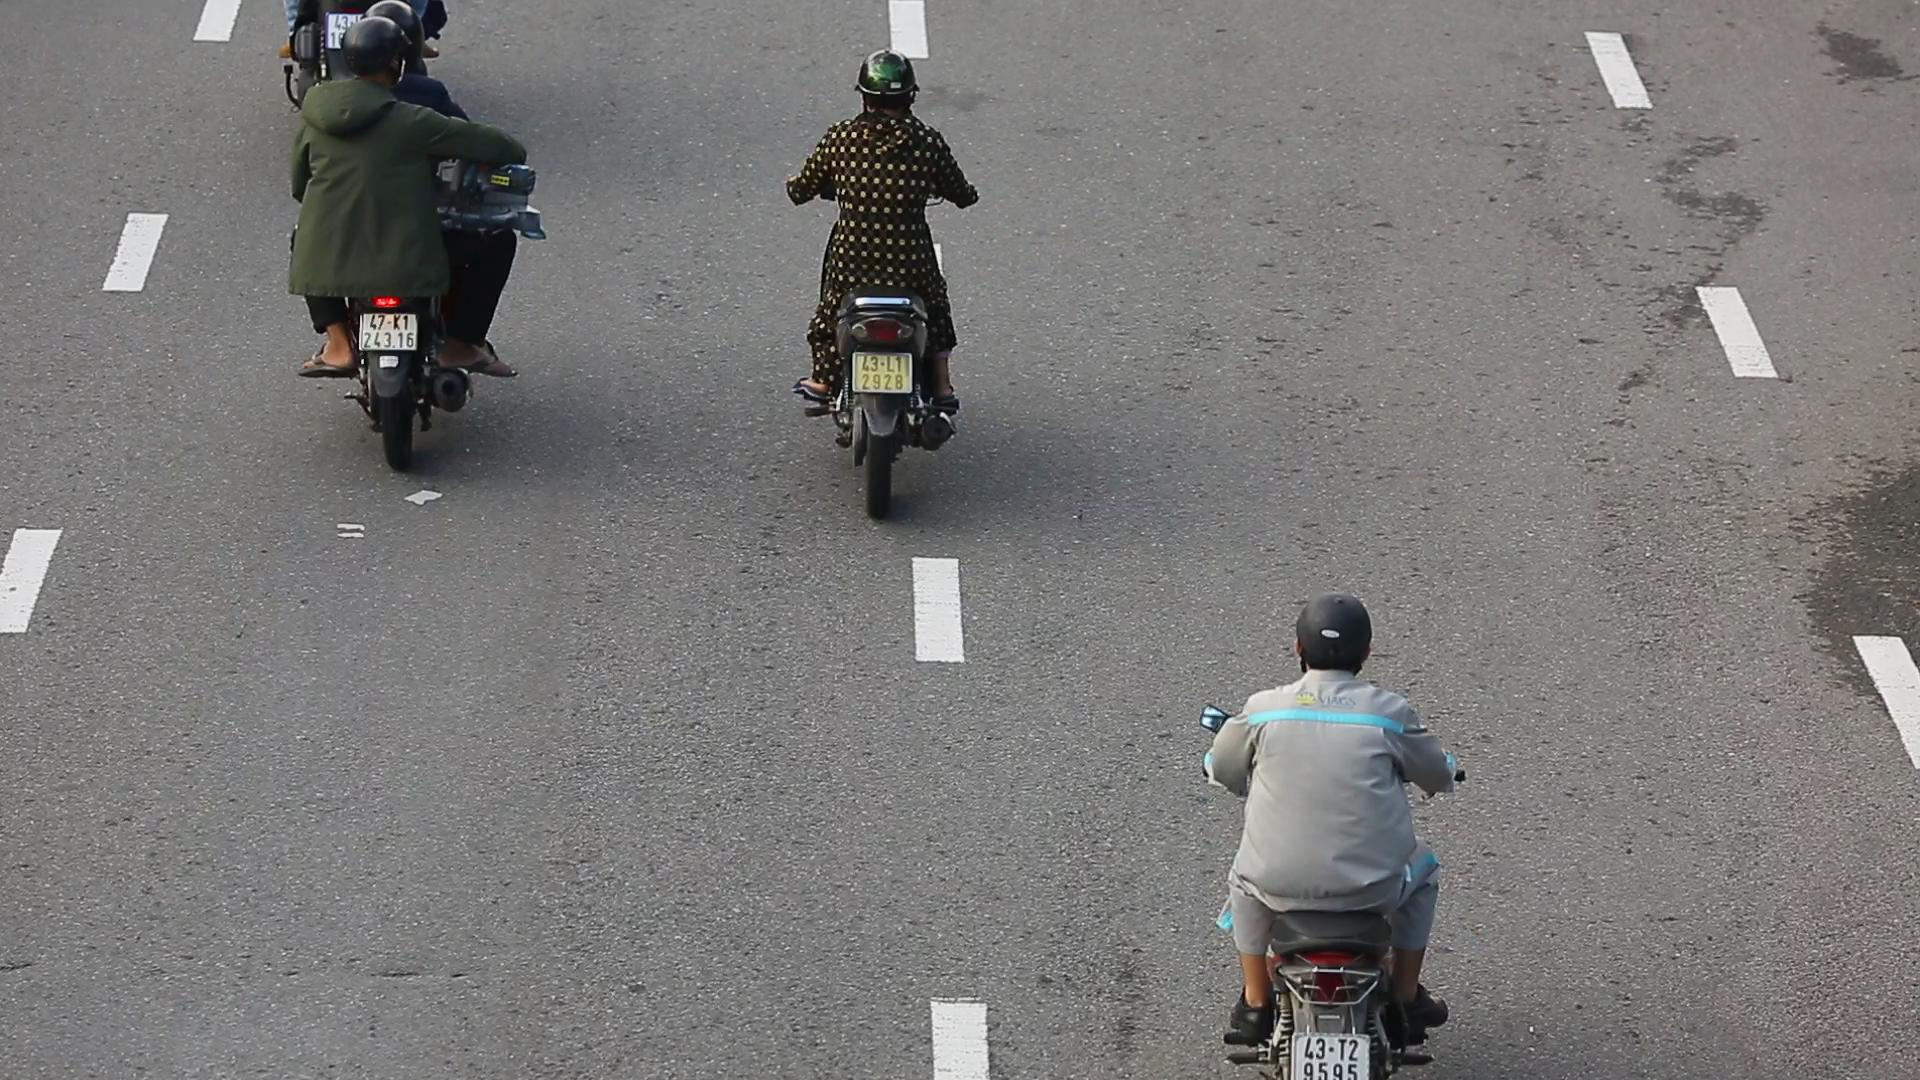motobike: (272, 0, 549, 480), (778, 37, 985, 525)
